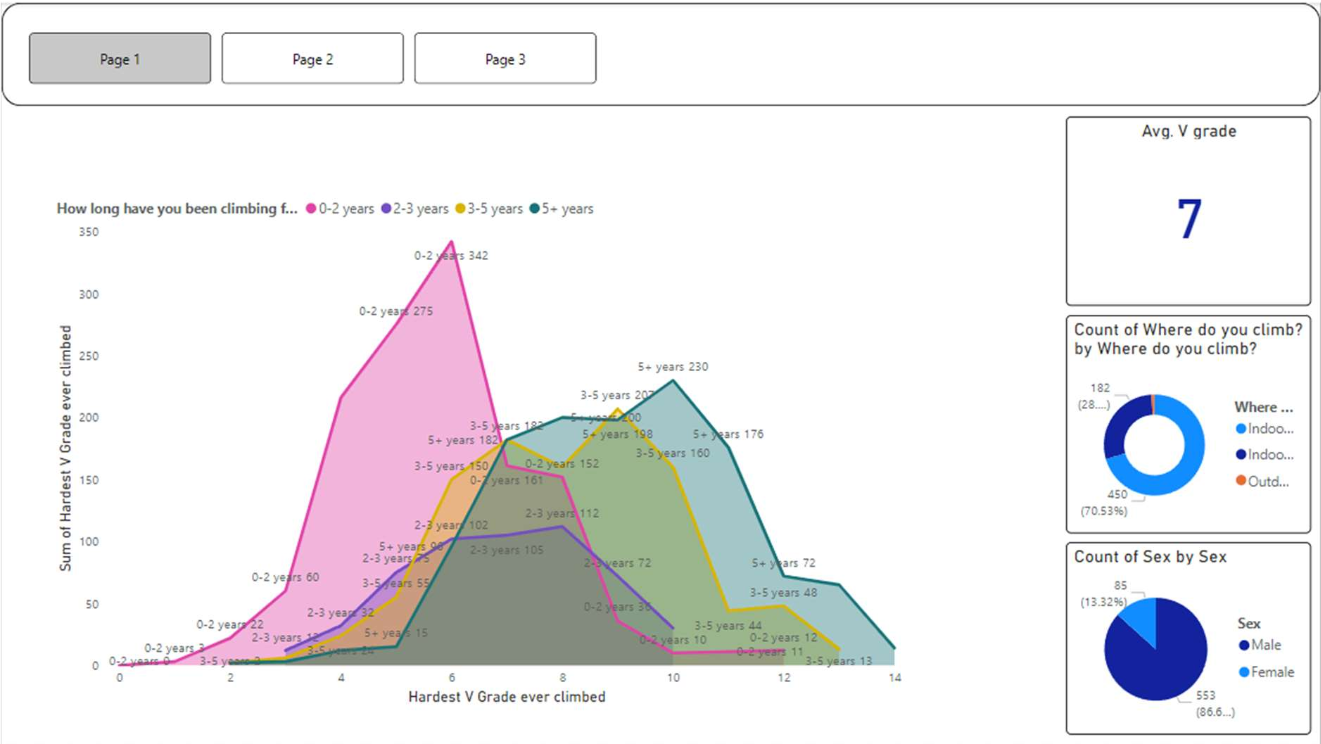

This screenshot's page, from the dashboard's own definition file:
{"tool":"powerbi","page":{"name":"Home","canvas":[1280,720],"ordinal":0},"visuals":[{"type":"donutChart","title":"Where do you climb?","fields":{"Category":["Climbharder #V3 (Responses) - Form responses 1.Where do you climb?"],"Y":["CountNonNull(Climbharder #V3 (Responses) - Form responses 1.Where do you climb?)"]},"box":[897.5,453.8,362.5,212.5],"z":0},{"type":"pieChart","title":"Sex","fields":{"Category":["Climbharder #V3 (Responses) - Form responses 1.Sex"],"Y":["CountNonNull(Climbharder #V3 (Responses) - Form responses 1.Sex)"]},"box":[897.5,245,362.5,191.2],"z":1000},{"type":"lineChart","fields":{"Category":["Climbharder #V3 (Responses) - Form responses 1.Hardest V Grade ever climbed "],"Y":["Sum(Climbharder #V3 (Responses) - Form responses 1.Hardest V Grade ever climbed )"],"Series":["Climbharder #V3 (Responses) - Form responses 1.How long have you been climbing for? (groups)"]},"box":[26.2,126,854.6,540.2],"z":2000},{"type":"shape","box":[0,0,1280,54.3],"z":3000},{"type":"card","title":"Avg. V grade","fields":{"Values":["Avg(Climbharder #V3 (Responses) - Form responses 1.Column)"]},"box":[897.3,126.7,86.2,78.6],"z":4000},{"type":"pageNavigator","box":[400,6.2,373.8,41.2],"z":5000},{"type":"textbox","box":[983.4,126.7,106.5,78.6],"z":6000},{"type":"card","title":"Avg. V grade","fields":{"Values":["Avg(Climbharder #V3 (Responses) - Form responses 1.Frequency of climbing sessions per week)"]},"box":[1090,126.2,76.2,78.8],"z":7000},{"type":"textbox","box":[1166.2,126.2,105,78.8],"z":8000},{"type":"image","box":[26.2,0,90,53.8],"z":9000},{"type":"textbox","box":[100,6.2,300,47.5],"z":10000},{"type":"textbox","title":"How long does it take to get to V6?","box":[26.6,65.9,707.2,60.8],"z":11000}]}

Visuals, with their boxes in screenshot pixels (x1, y1, x2, y2), scaled from the page's 1280x720 canvas onto the 1321x744 screenshot:
"Where do you climb?" donutChart: (left=926, top=469, right=1300, bottom=689)
"Sex" pieChart: (left=926, top=253, right=1300, bottom=451)
lineChart - Climbharder #V3 (Responses) - Form responses 1.Hardest V Grade ever climbed  x Sum(Climbharder #V3 (Responses) - Form responses 1.Hardest V Grade ever climbed ): (left=27, top=130, right=909, bottom=688)
shape: (left=0, top=0, right=1320, bottom=56)
"Avg. V grade" card: (left=926, top=131, right=1015, bottom=212)
pageNavigator: (left=413, top=6, right=799, bottom=49)
textbox: (left=1015, top=131, right=1125, bottom=212)
"Avg. V grade" card: (left=1125, top=130, right=1204, bottom=212)
textbox: (left=1204, top=130, right=1312, bottom=212)
image: (left=27, top=0, right=120, bottom=56)
textbox: (left=103, top=6, right=413, bottom=55)
"How long does it take to get to V6?" textbox: (left=27, top=68, right=757, bottom=131)
